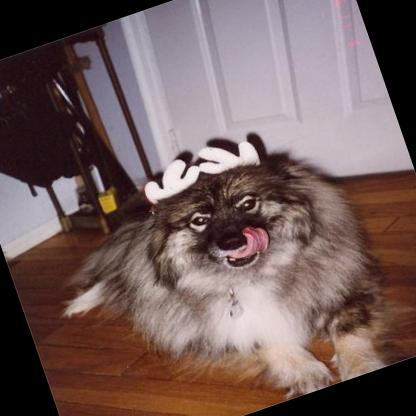keeshond: (23, 106, 405, 416)
